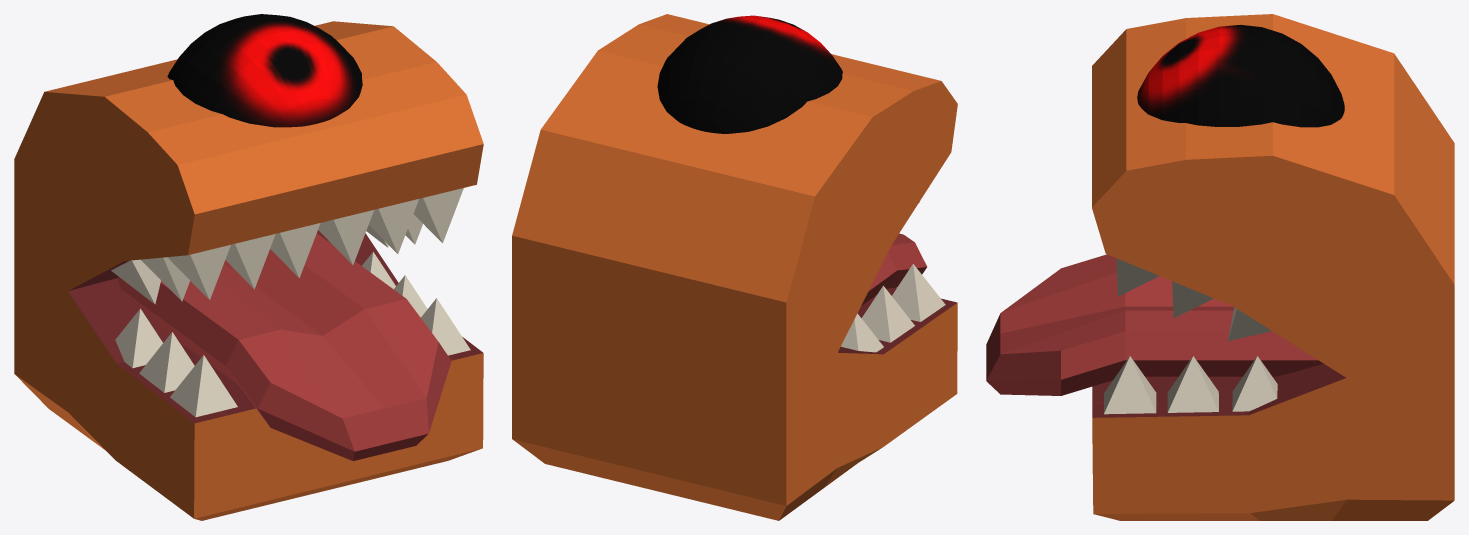
Rendered from enemy.obj.
The picture shows the model from 3 angles, left to right: view 1: azimuth 30°, elevation 25°; view 2: azimuth 150°, elevation 25°; view 3: azimuth 270°, elevation 25°; orthographic projection. The views are drawn at different scales.
Visible parts, largest first — view 1: Cube, 立方体, 立方体.001, 球; view 2: Cube, 球, 立方体.001, 立方体; view 3: Cube, 立方体, 球, 立方体.001.
Boxes of the visible parts, box(x1,y1,x2,y2) form: Cube: box(14, 21, 483, 520); 立方体: box(116, 233, 451, 460); 立方体.001: box(111, 188, 470, 417); 球: box(167, 14, 362, 127); Cube: box(512, 14, 957, 520); 球: box(657, 15, 842, 133); 立方体.001: box(841, 202, 945, 352); 立方体: box(861, 233, 927, 305); Cube: box(1092, 14, 1454, 520); 立方体: box(986, 254, 1323, 395); 球: box(1137, 24, 1344, 127); 立方体.001: box(1104, 258, 1277, 414).
Bounding box in the file's own units: 0.8119 × 1.14 × 1.13.
Materials: 3 (3 with a texture image).
